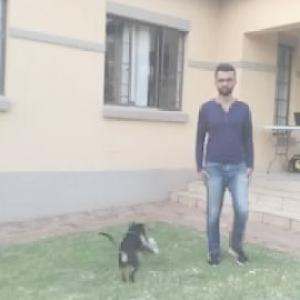follow: (192, 64, 258, 266)
